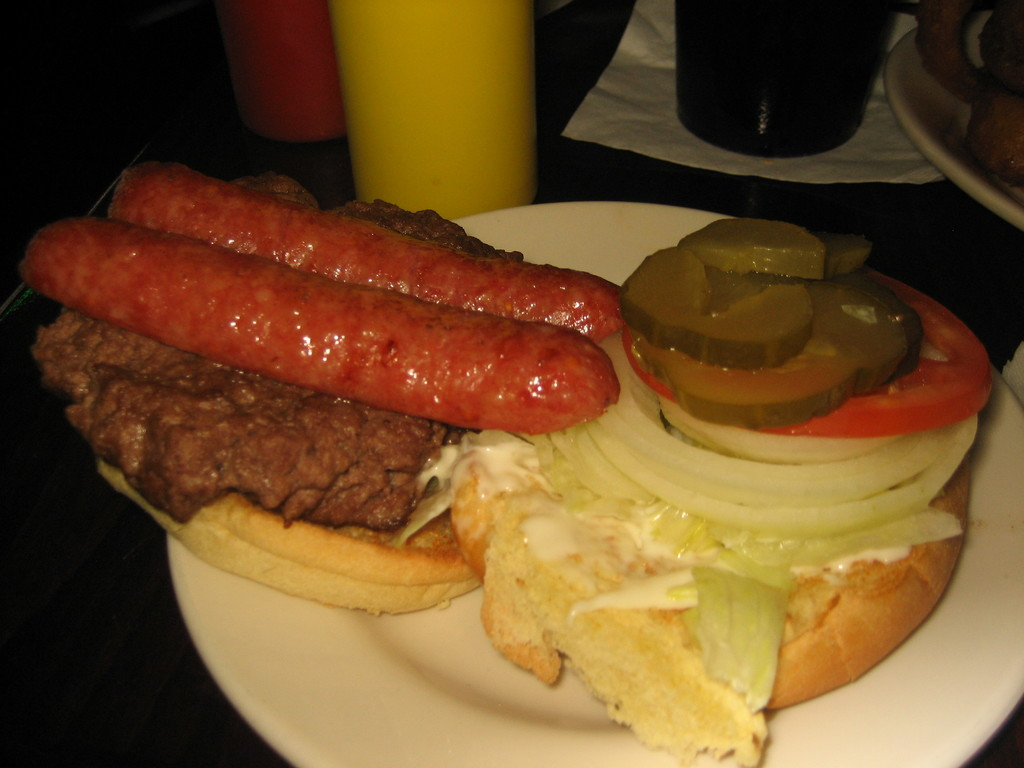Hamburger: (20, 149, 1011, 767)
